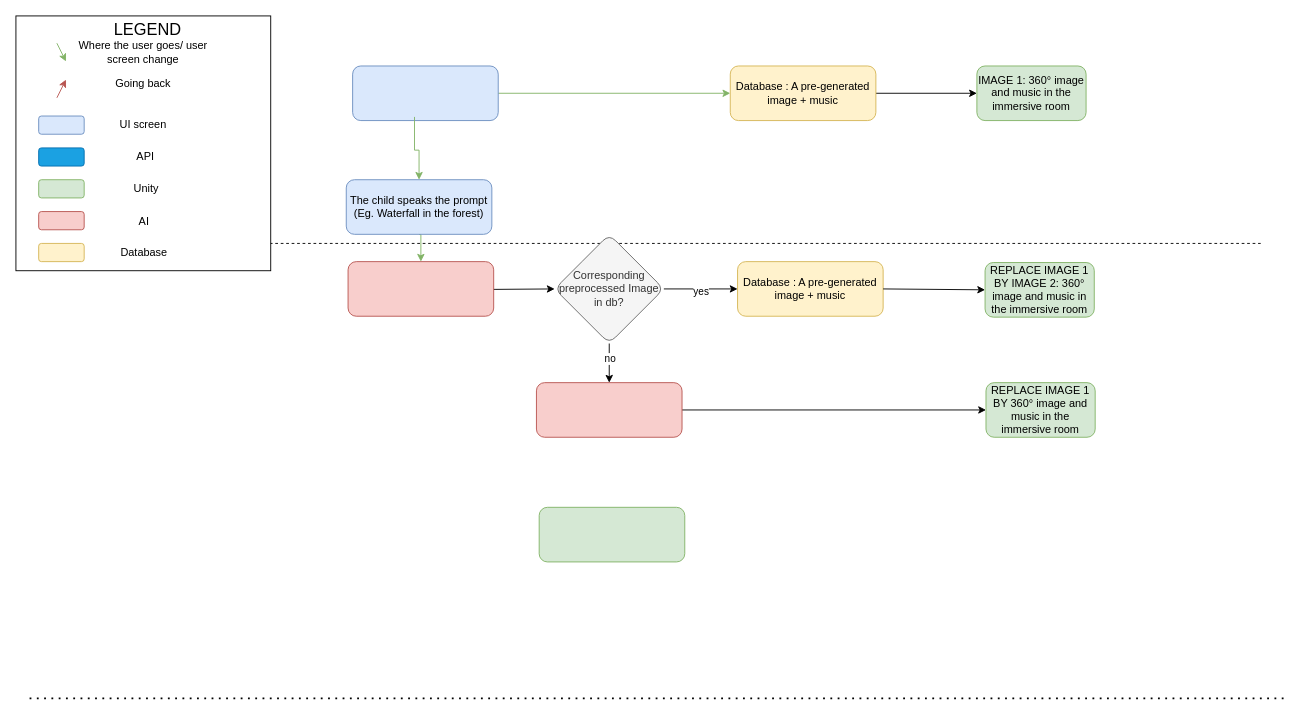
This 1303x716 diagram has some shape labels left out. The shapes that lost their labels are listed below. From the top down, each one's centre as x and y in pixels, then its label:
At point (425, 93): "Child chooses continent/general location by clicking".
At point (420, 288): "Voice-To-Prompt".
At point (609, 409): "Text-To-Image model creates the image".
At point (611, 534): "Image-Text-To-Image model recreates the image with the improvement".
